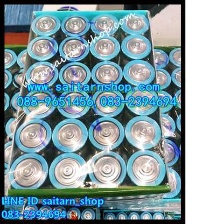battery: (7, 151, 54, 198), (49, 116, 89, 169), (123, 148, 165, 196), (12, 117, 53, 166), (122, 113, 162, 163), (86, 149, 127, 197), (86, 114, 125, 163), (49, 152, 87, 201), (86, 13, 120, 67), (116, 10, 150, 64), (19, 86, 60, 129), (122, 56, 157, 106), (24, 34, 59, 82), (117, 34, 154, 79), (121, 85, 160, 127), (58, 12, 93, 58), (29, 13, 61, 63), (58, 34, 91, 80), (56, 87, 92, 128), (87, 31, 122, 73), (88, 88, 124, 127), (22, 61, 61, 97), (58, 61, 92, 99), (90, 59, 123, 96), (149, 137, 182, 169), (144, 109, 176, 139), (138, 90, 175, 115), (142, 64, 173, 91), (140, 48, 169, 69), (65, 205, 83, 224), (78, 208, 97, 223), (125, 210, 139, 224), (103, 210, 116, 223), (138, 211, 151, 223), (116, 211, 128, 224), (152, 211, 165, 222)
